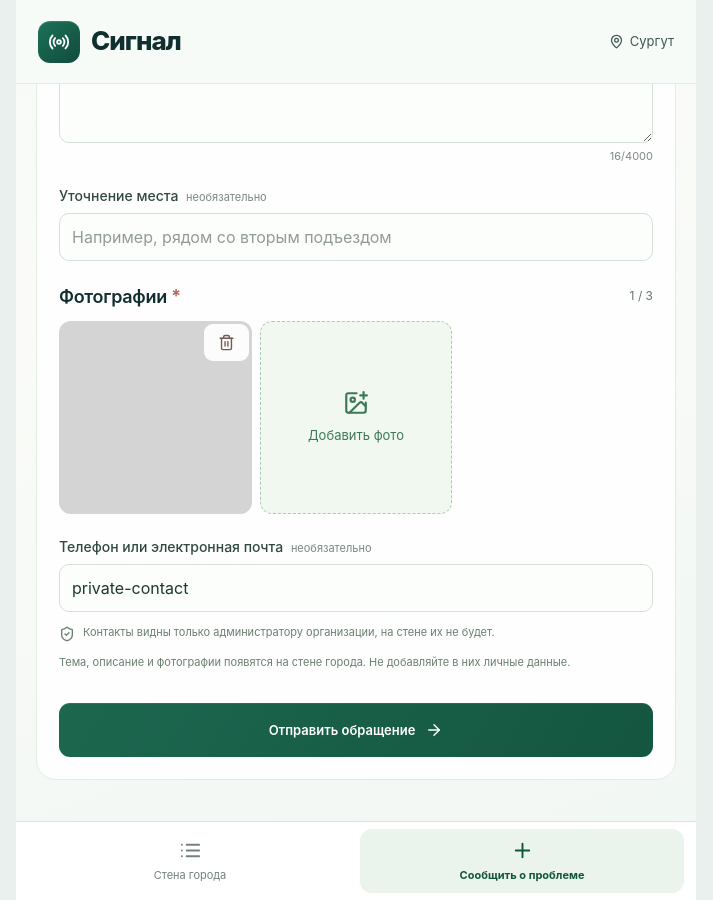
Scenario: keeps an uncertain send frozen and confirms receipt without uploading twice
The width and height of the screenshot is (713, 900).
(page scrolled)
Click the button "Отправить обращение" at (356, 730), box [59,703,653,757]
(page scrolled)
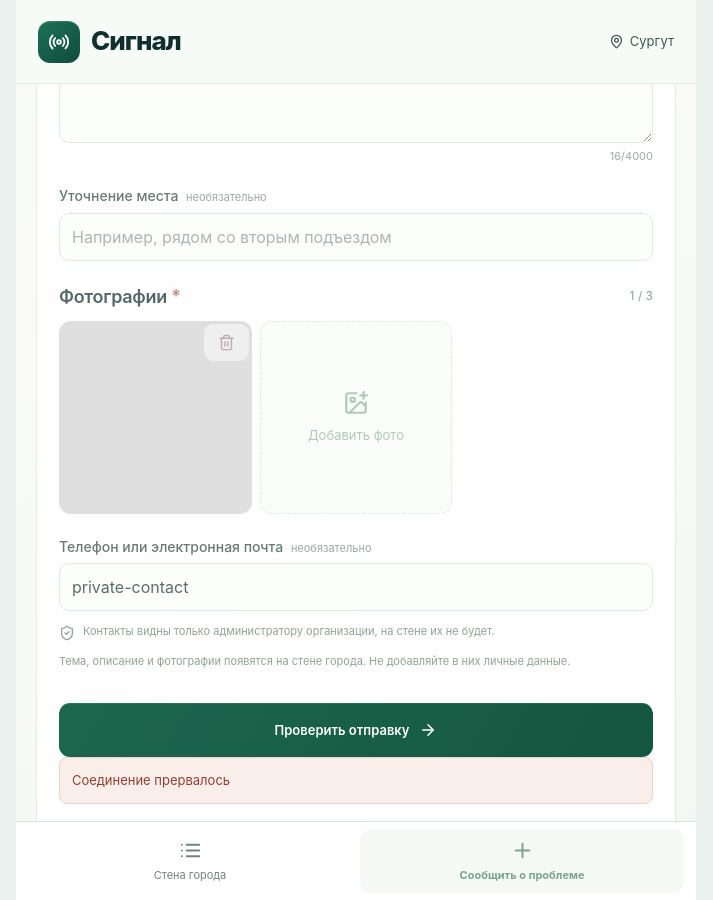
Expected: the button "Проверить отправку" is shown
Click the button "Проверить отправку" at (356, 730), box [59,703,653,757]
(page scrolled)
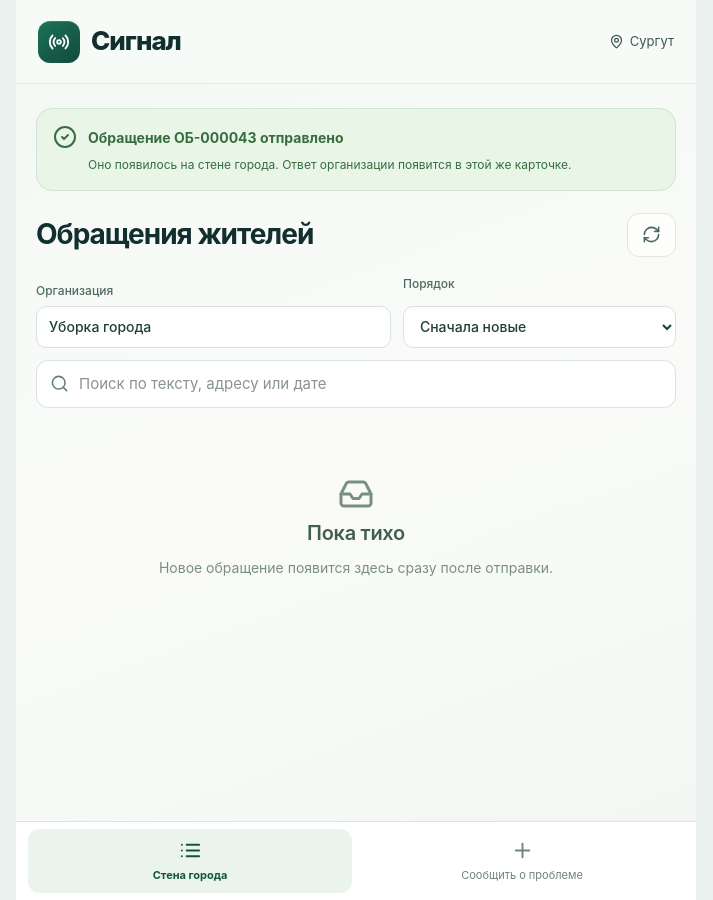
Expected: the text "ОБ-000043" is shown, [174,129,257,146]
